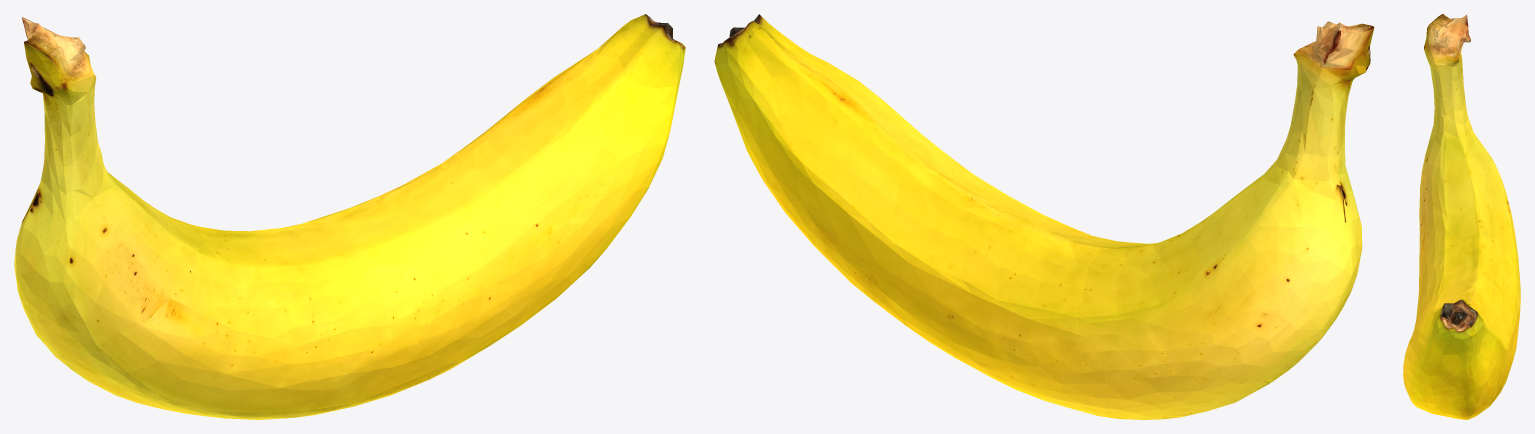
The model's file is banana.glb.
The picture shows the model from 3 angles, left to right: view 1: azimuth 30°, elevation 25°; view 2: azimuth 150°, elevation 25°; view 3: azimuth 270°, elevation 25°; orthographic projection. The views are drawn at different scales.
Visible parts, largest first — view 1: Object_2; view 2: Object_2; view 3: Object_2.
Boxes of the visible parts, x1,y1,x2,y2 form: Object_2: (14,14,685,419); Object_2: (714,14,1374,419); Object_2: (1403,14,1520,419).
Bounding box in the file's own units: 6.79 × 4.44 × 1.63.
1 material, 1 textured.
